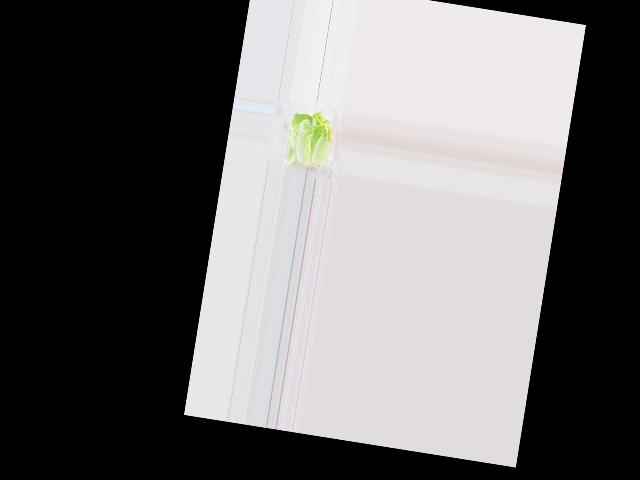lettuce: (284, 106, 336, 169)
